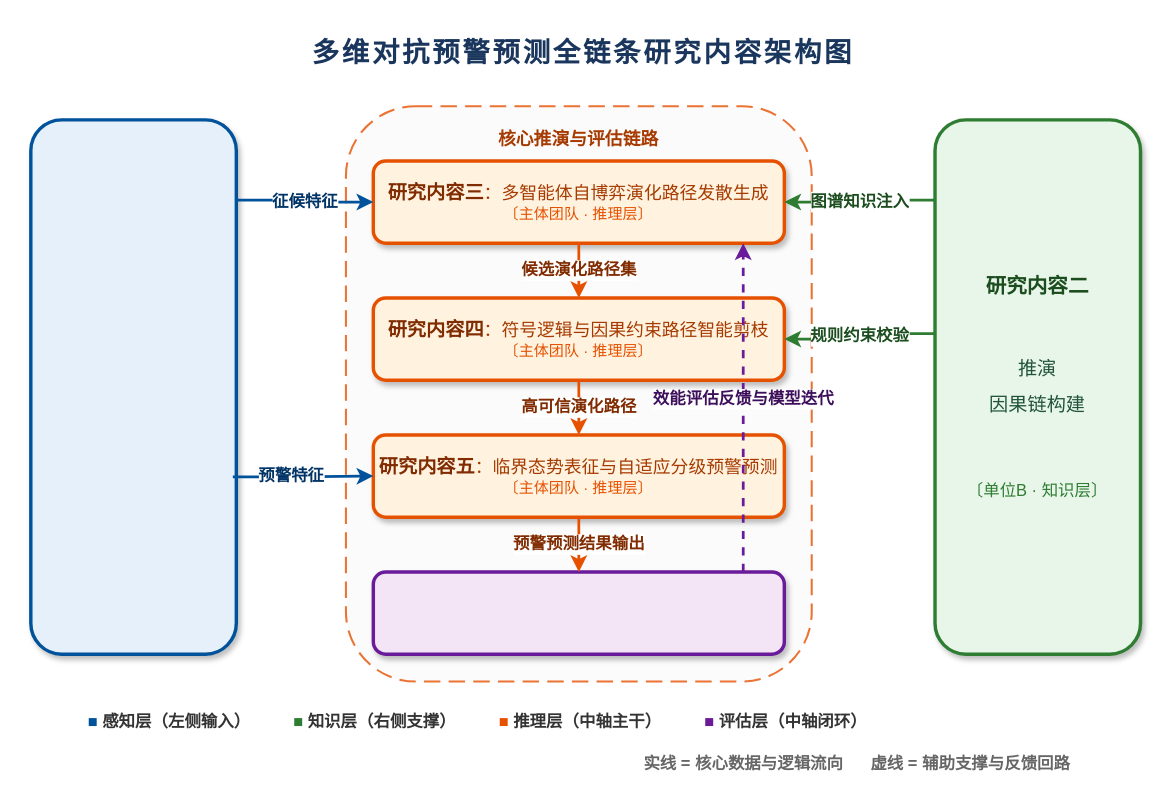
The diagram is 1174 pixels wide and 800 high, and some of its shapes have lost their labels. The shapes that lost their labels are listed below. From the top down, each one's centre as x and y in pixels, then its label:
At (x=134, y=388): "研究内容一 弱隐征候 智能发现 〔单位A · 感知层〕".
At (x=580, y=614): "研究内容六 ：过程与结果一致性驱动的效能评价 〔主体团队 · 评估层〕".
